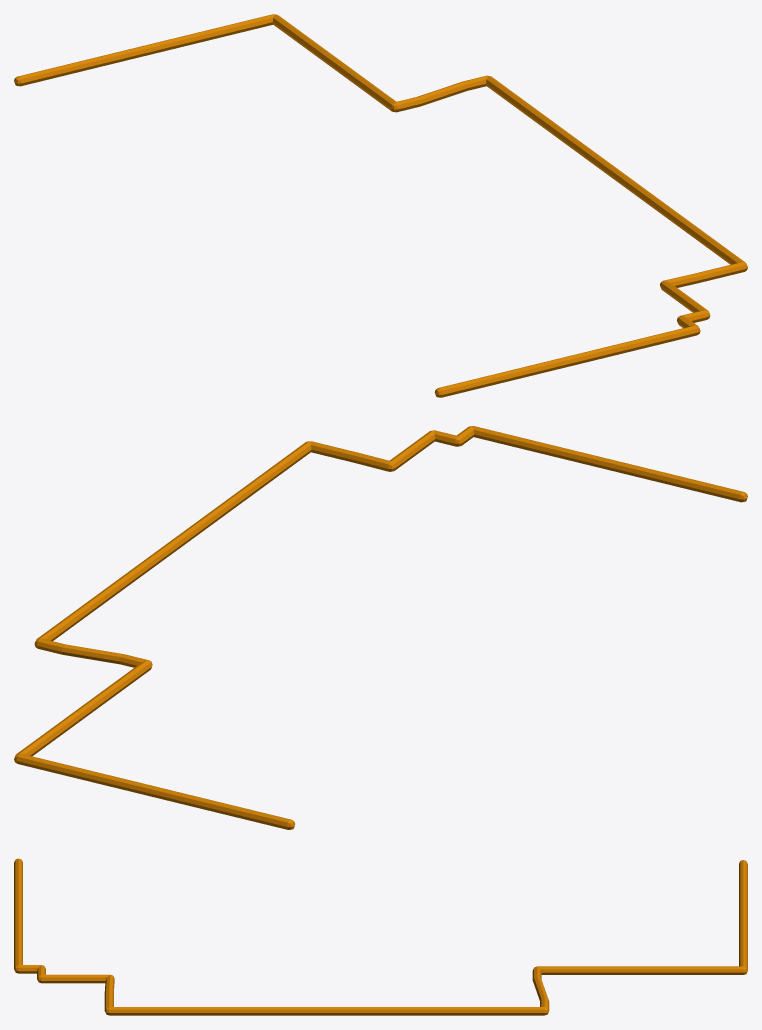
3 views of the same model, one above another, from view 1: azimuth 30°, elevation 25°; view 2: azimuth 150°, elevation 25°; view 3: azimuth 270°, elevation 25° (orthographic). The views are drawn at different scales.
Bounding box in the file's own units: 786 × 20 × 1602.
